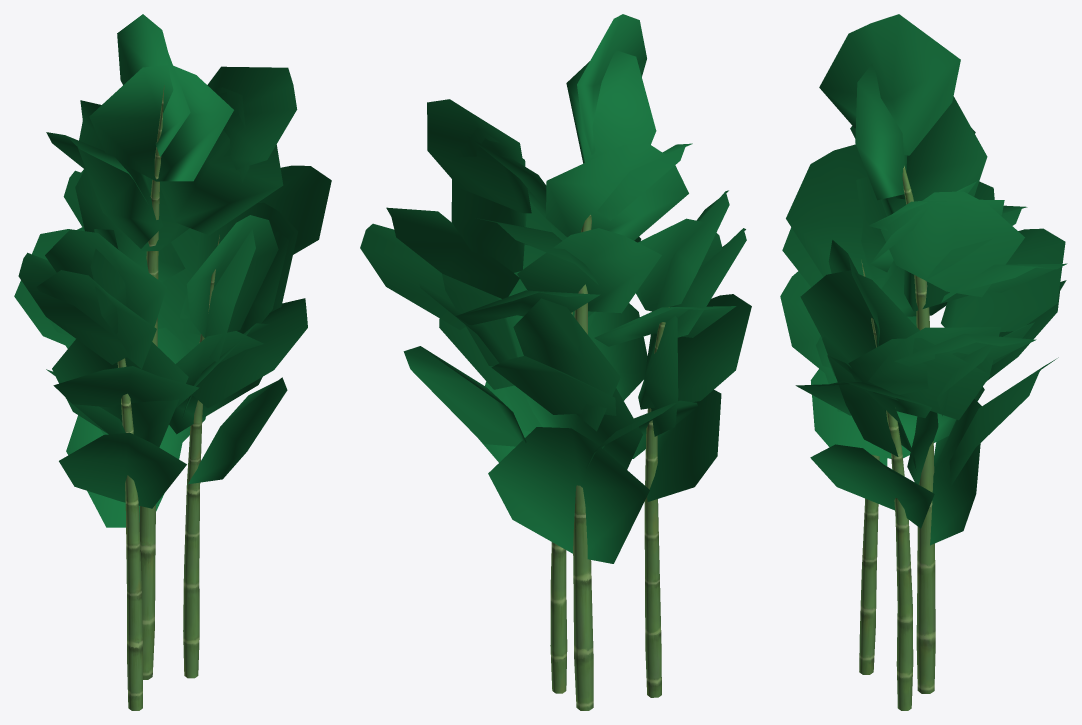
The model's file is SM_BambooSaplingClump2.fbx.
3 renders of one model, left to right at view 1: azimuth 30°, elevation 25°; view 2: azimuth 150°, elevation 25°; view 3: azimuth 270°, elevation 25°, orthographic.
Parts seen in each view (by area): view 1: SM_BambooSaplingClump2_LOD0; view 2: SM_BambooSaplingClump2_LOD0; view 3: SM_BambooSaplingClump2_LOD0.
Part boxes in pixels (left/top/right/bottom): SM_BambooSaplingClump2_LOD0: left=14, top=14, right=331, bottom=710; SM_BambooSaplingClump2_LOD0: left=360, top=14, right=751, bottom=710; SM_BambooSaplingClump2_LOD0: left=780, top=14, right=1067, bottom=710.
Size of what is drawn, in the model's own units: 5.03 by 3.91 by 10.06.
